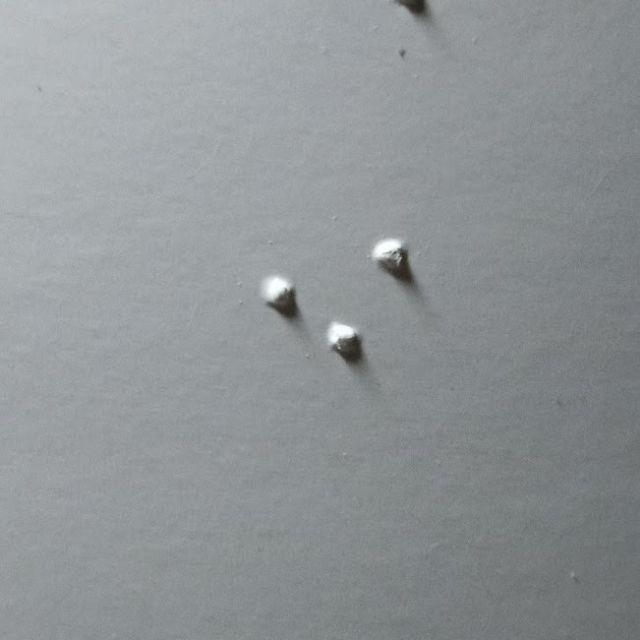dot_5: (214, 236, 297, 360)
sinta: (326, 235, 409, 359)
